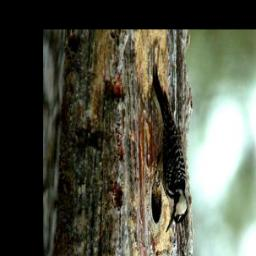Woodpecker: (144, 52, 193, 239)
